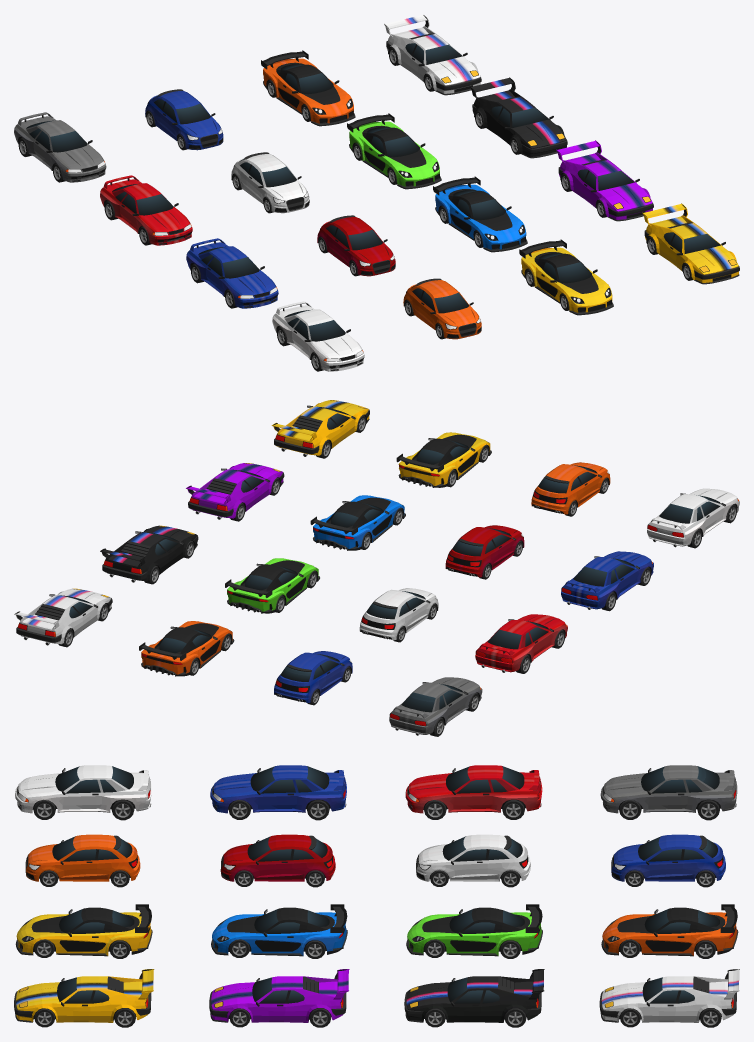
File: november-2022-low-poly-cars.fbx
The picture shows the model from 3 angles, top to bottom: view 1: azimuth 30°, elevation 25°; view 2: azimuth 150°, elevation 25°; view 3: azimuth 270°, elevation 25°; orthographic projection. The views are drawn at different scales.
Visible parts, largest first — view 1: polySurface10973, polySurface13416, polySurface10328, polySurface8899, polySurface5030, polySurface9156, polySurface14023, polySurface3048, polySurface11604, polySurface9485, polySurface10084, polySurface7930 (+4 smaller); view 2: polySurface3048, polySurface7930, polySurface9156, polySurface10973, polySurface14023, polySurface9485, polySurface10084, polySurface11604, polySurface13416, polySurface10328, polySurface8899, polySurface5030 (+4 smaller); view 3: polySurface14023, polySurface10973, polySurface3048, polySurface9156, polySurface10328, polySurface13416, polySurface8899, polySurface5030, polySurface9485, polySurface10084, polySurface11604, polySurface7930 (+4 smaller).
Boxes of the visible parts, x1=… form: polySurface10973: x1=642, y1=203, x2=739, y2=284; polySurface13416: x1=519, y1=239, x2=613, y2=315; polySurface10328: x1=433, y1=176, x2=527, y2=252; polySurface8899: x1=261, y1=50, x2=355, y2=126; polySurface5030: x1=347, y1=113, x2=441, y2=189; polySurface9156: x1=384, y1=14, x2=481, y2=95; polySurface14023: x1=556, y1=140, x2=653, y2=221; polySurface3048: x1=470, y1=77, x2=567, y2=158; polySurface11604: x1=100, y1=175, x2=192, y2=245; polySurface9485: x1=186, y1=238, x2=278, y2=308; polySurface10084: x1=272, y1=301, x2=364, y2=371; polySurface7930: x1=14, y1=112, x2=106, y2=182; polySurface3048: x1=100, y1=525, x2=198, y2=584; polySurface7930: x1=389, y1=677, x2=482, y2=736; polySurface9156: x1=14, y1=588, x2=112, y2=647; polySurface10973: x1=271, y1=400, x2=369, y2=458; polySurface14023: x1=186, y1=463, x2=284, y2=521; polySurface9485: x1=561, y1=551, x2=653, y2=611; polySurface10084: x1=647, y1=488, x2=739, y2=548; polySurface11604: x1=475, y1=614, x2=567, y2=673; polySurface13416: x1=396, y1=432, x2=491, y2=487; polySurface10328: x1=310, y1=495, x2=405, y2=550; polySurface8899: x1=139, y1=621, x2=234, y2=676; polySurface5030: x1=225, y1=558, x2=319, y2=613; polySurface14023: x1=209, y1=969, x2=349, y2=1027; polySurface10973: x1=14, y1=969, x2=154, y2=1027; polySurface3048: x1=404, y1=969, x2=544, y2=1027; polySurface9156: x1=599, y1=969, x2=739, y2=1027; polySurface10328: x1=211, y1=904, x2=347, y2=958; polySurface13416: x1=15, y1=904, x2=152, y2=958; polySurface8899: x1=601, y1=904, x2=738, y2=958; polySurface5030: x1=406, y1=904, x2=542, y2=958; polySurface9485: x1=210, y1=765, x2=346, y2=820; polySurface10084: x1=15, y1=765, x2=151, y2=820; polySurface11604: x1=405, y1=765, x2=542, y2=819; polySurface7930: x1=600, y1=765, x2=737, y2=820.
Size of the model in its own units: 1692 by 129 by 2231.
